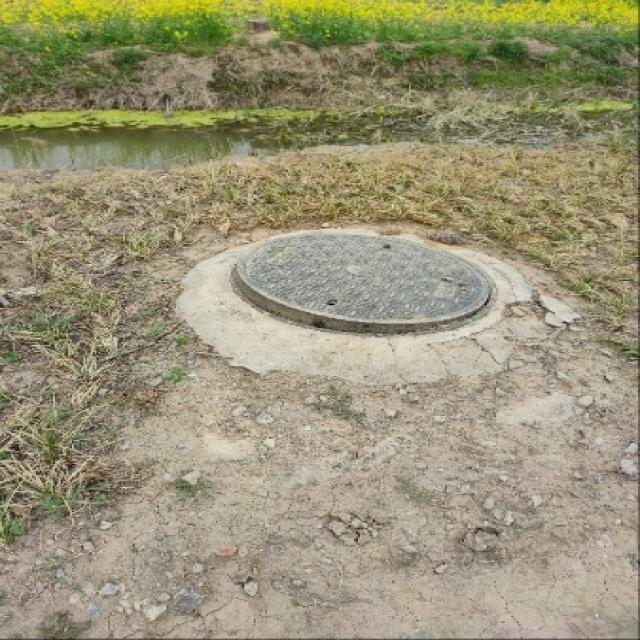Good: (217, 219, 524, 351)
